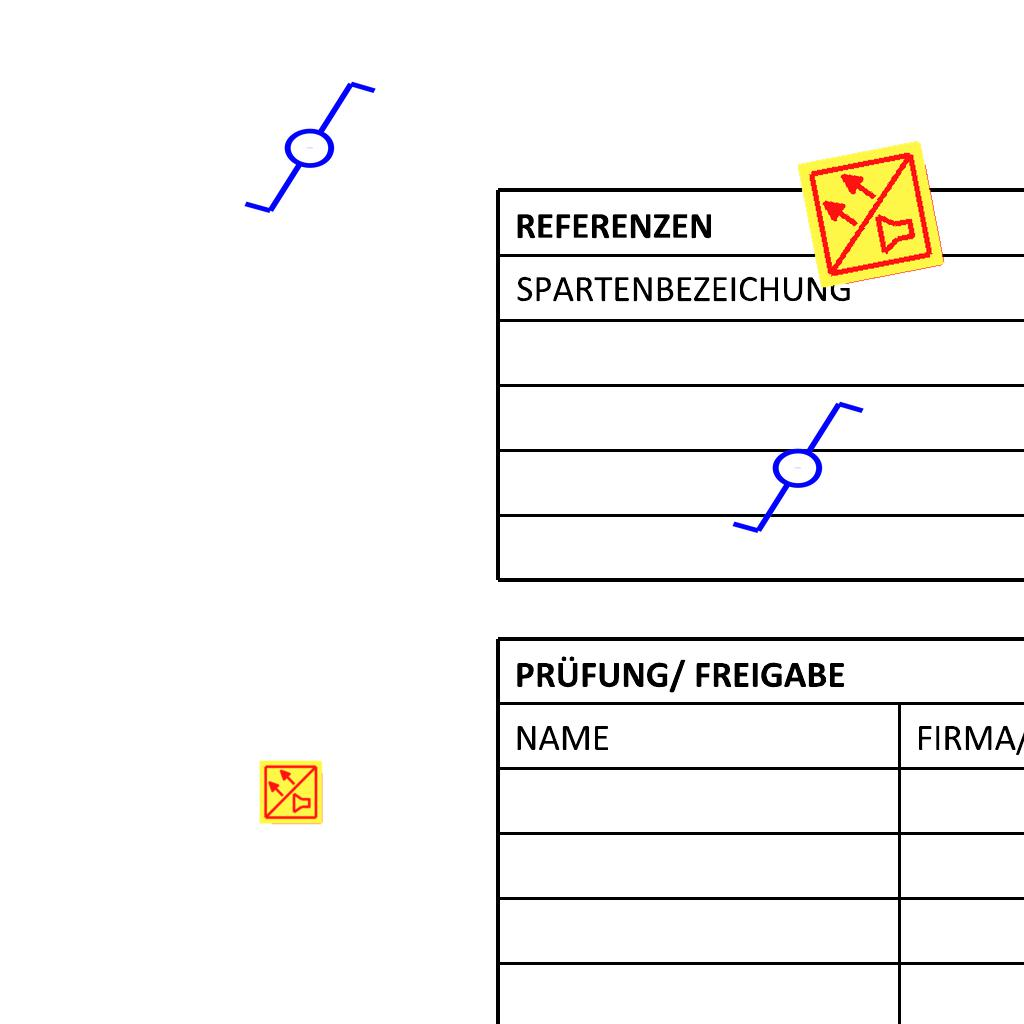OKW_Multisensormelder_(Kombination_optischer_Rauch-Kahlenmonoxid_Waerme-Melder): (793, 136, 949, 292), (258, 759, 324, 825)
Wechselschalter: (223, 74, 380, 218), (711, 394, 868, 538)
